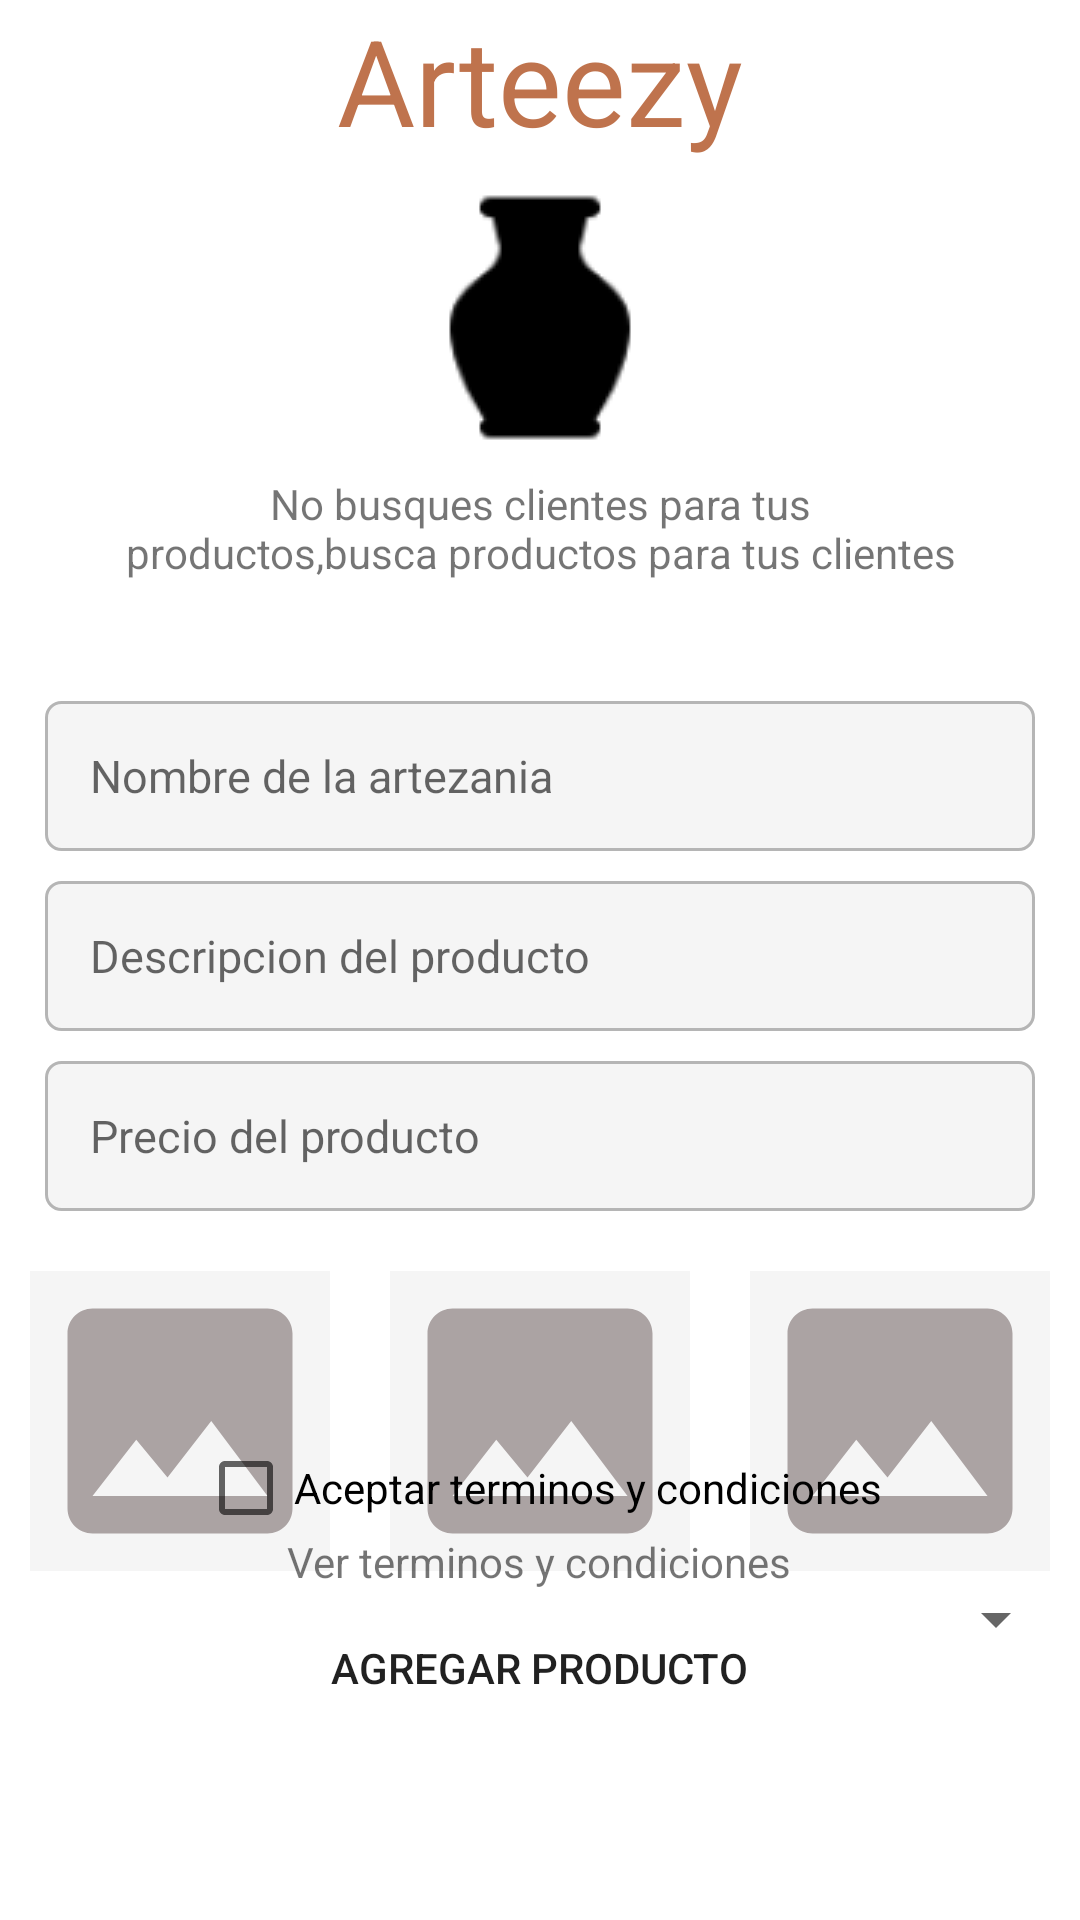

Named icons in this screenshot (1080×1920) and their centers, point (x, y):
ceramics: point (540, 317)
